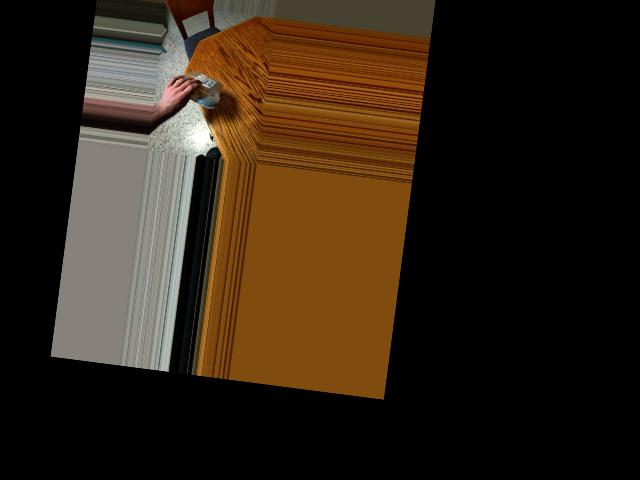cheese: (178, 69, 221, 107)
